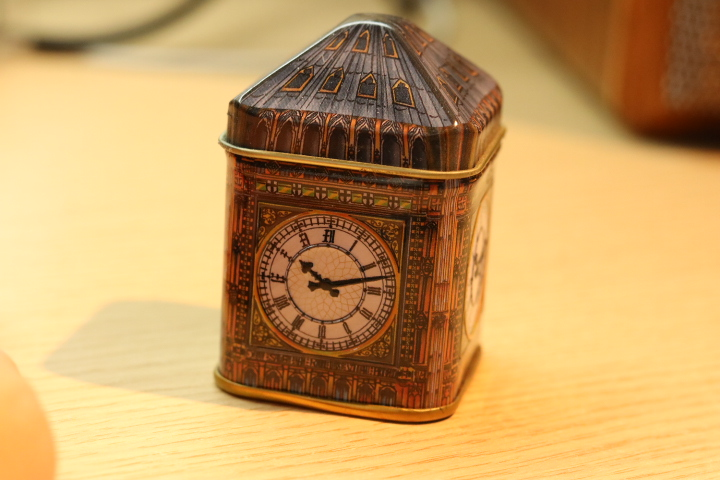Big Ben: (204, 8, 528, 435)
